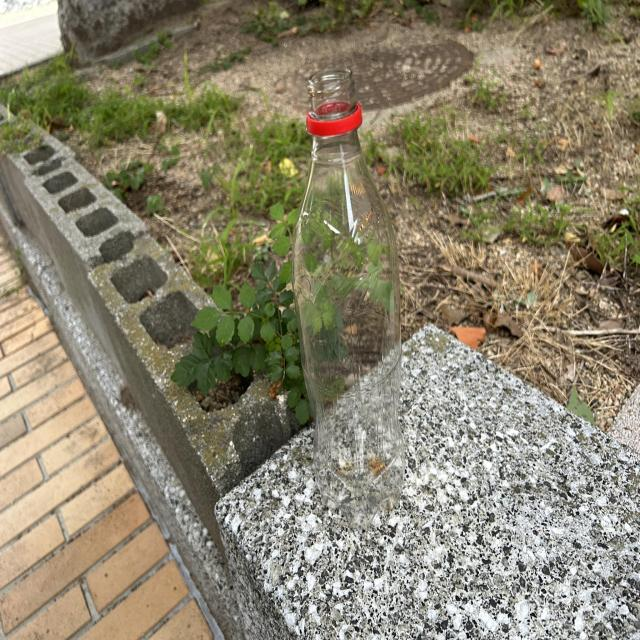empty: (292, 68, 405, 526)
